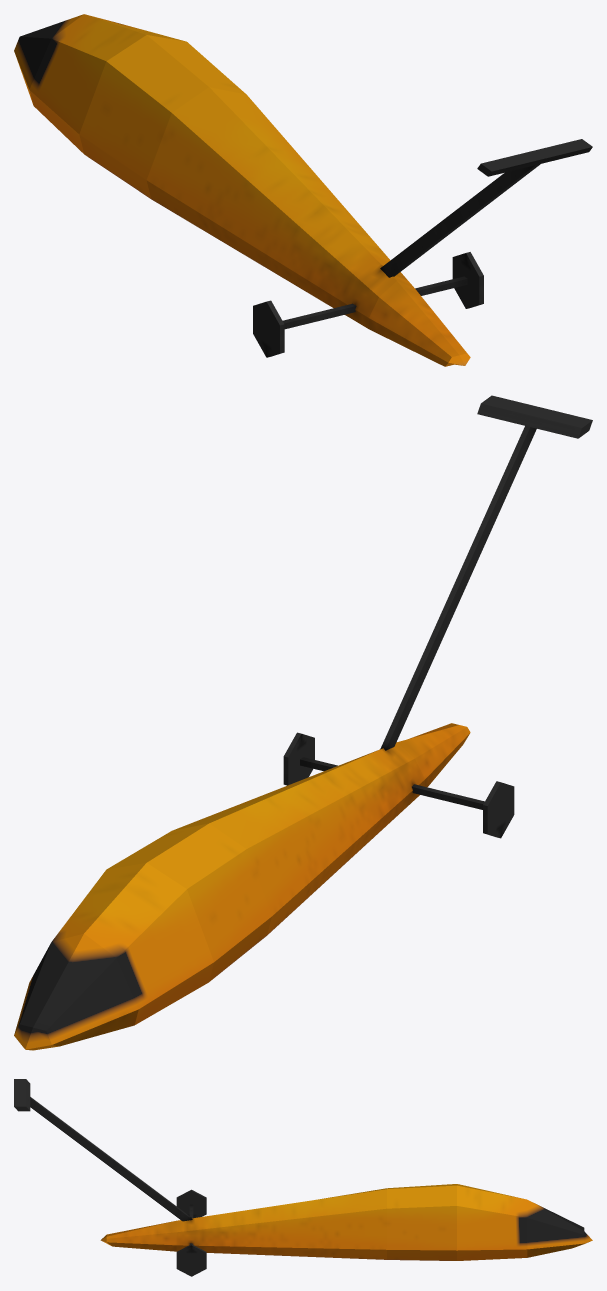
Rendered from Buggy.fbx.
3 renders of one model, top to bottom at view 1: azimuth 30°, elevation 25°; view 2: azimuth 150°, elevation 25°; view 3: azimuth 270°, elevation 25°, orthographic. The views are drawn at different scales.
Parts seen in each view (by area): view 1: Cube.002; view 2: Cube.002; view 3: Cube.002.
Boxes of the visible parts, x1,y1,x2,y2 form: Cube.002: (14, 14, 592, 366); Cube.002: (14, 395, 592, 1050); Cube.002: (14, 1079, 592, 1276).
Size of the model in its own units: 80.68 by 108 by 354.
